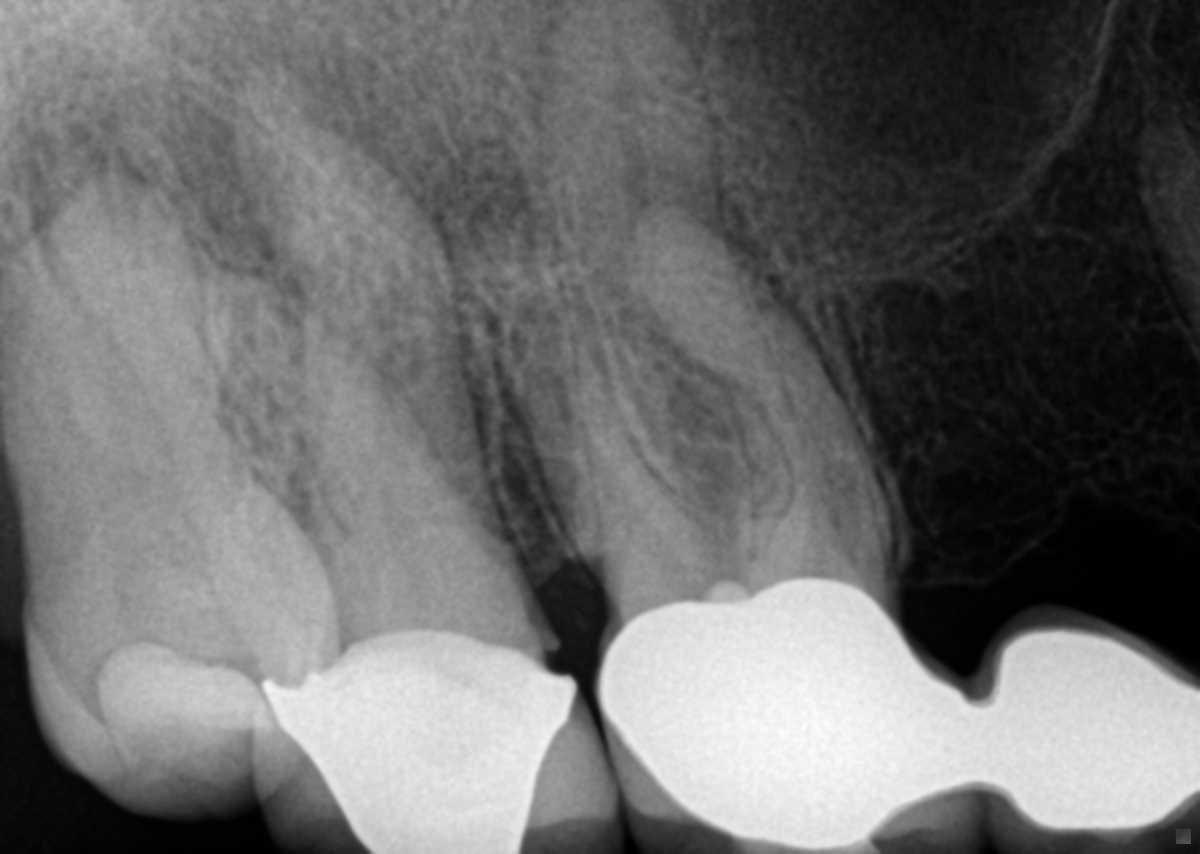Apical Lesion: (166, 8, 451, 258), (578, 174, 774, 357), (492, 260, 591, 373)
Distal Root: (512, 295, 696, 555)
Main Root: (0, 165, 264, 613), (199, 268, 459, 546)
Mesial Root: (234, 103, 484, 505), (631, 214, 874, 524)
Palatal Canal: (599, 0, 650, 210)
Palatal Root: (534, 0, 810, 618)
